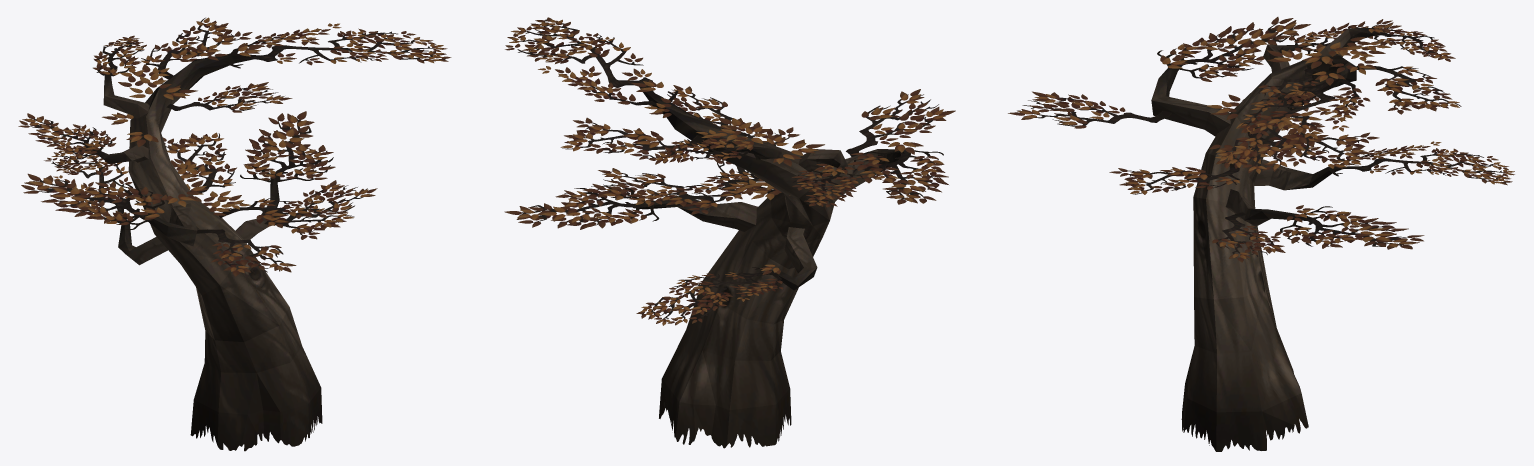
File: cherrytree_dead_03.fbx
The picture shows the model from 3 angles, left to right: view 1: azimuth 30°, elevation 25°; view 2: azimuth 150°, elevation 25°; view 3: azimuth 270°, elevation 25°; orthographic projection. The views are drawn at different scales.
Visible parts, largest first — view 1: obj1.067; view 2: obj1.067; view 3: obj1.067.
Boxes of the visible parts, bbox=[...] form: obj1.067: bbox=[18, 17, 451, 451]; obj1.067: bbox=[504, 17, 955, 448]; obj1.067: bbox=[1008, 17, 1514, 451].
Size of the model in its own units: 9.3 by 7.12 by 9.22.
